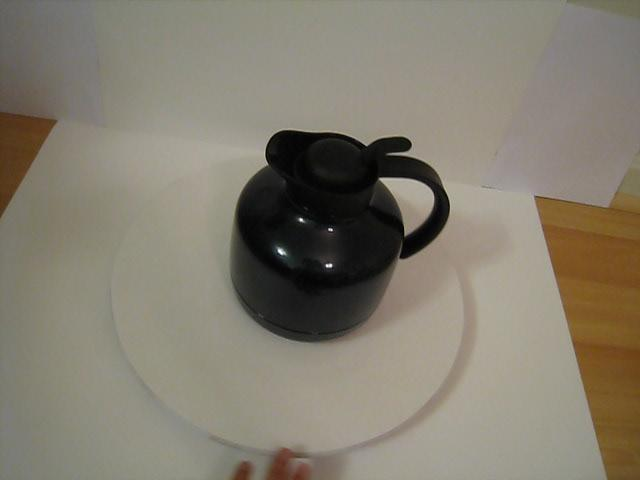pitcher: (224, 111, 452, 357)
